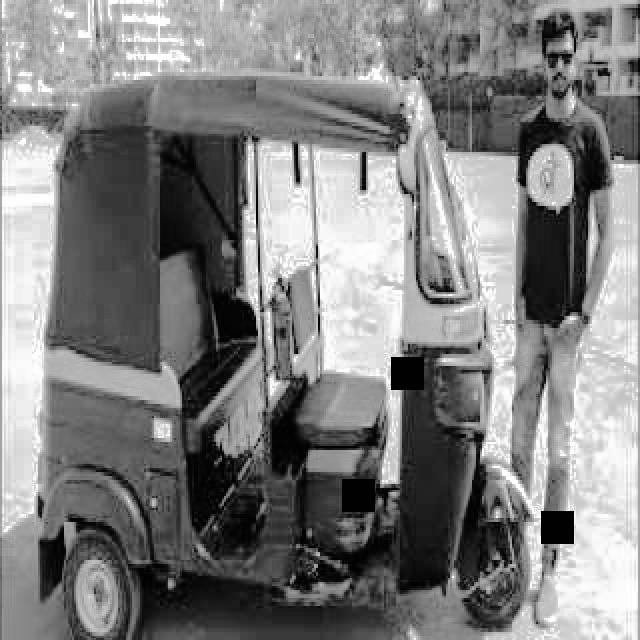Auto-Rickshaw: (46, 66, 540, 630)
